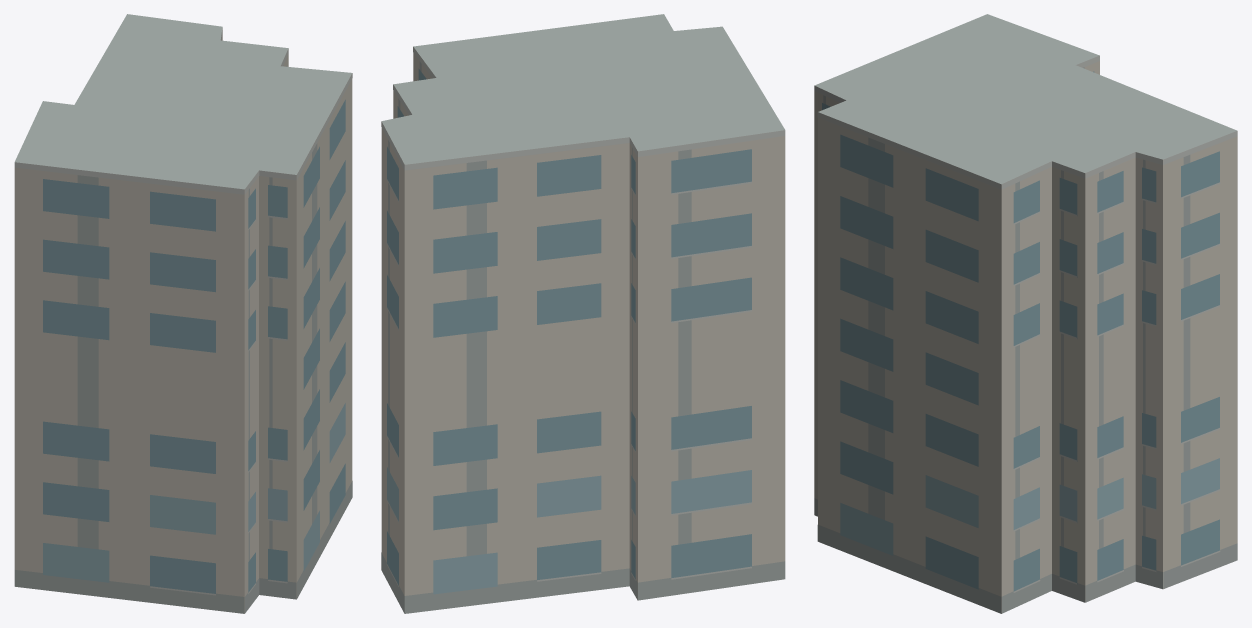
The model's file is survey-upis-33018812.glb.
The picture shows the model from 3 angles, left to right: view 1: azimuth 30°, elevation 25°; view 2: azimuth 150°, elevation 25°; view 3: azimuth 270°, elevation 25°; orthographic projection. The views are drawn at different scales.
Parts seen in each view (by area): view 1: survey-upis-33018812.tmp; view 2: survey-upis-33018812.tmp; view 3: survey-upis-33018812.tmp.
Part boxes in pixels (left/top/right/bottom): survey-upis-33018812.tmp: left=14, top=14, right=352, bottom=613; survey-upis-33018812.tmp: left=381, top=14, right=785, bottom=613; survey-upis-33018812.tmp: left=814, top=14, right=1237, bottom=613.
Bounding box in the file's own units: 16.16 × 19 × 16.97.
